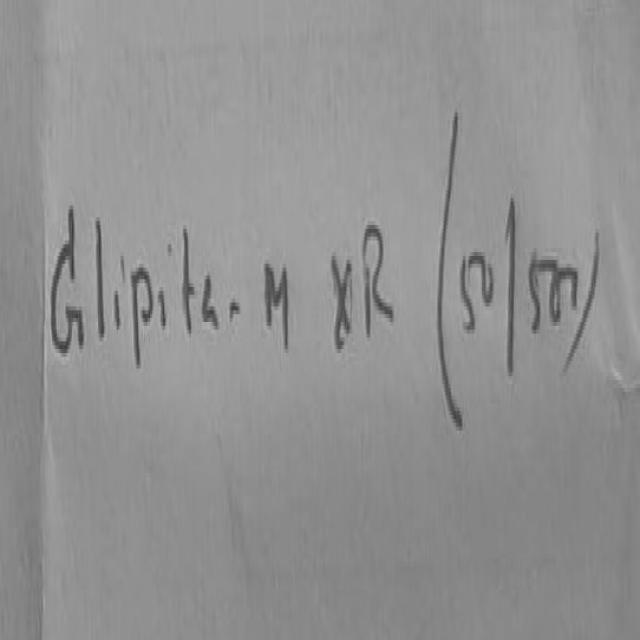0: (550, 273, 564, 322), (480, 264, 495, 304), (572, 273, 580, 306)
5: (530, 256, 556, 332), (462, 246, 484, 328)
G: (50, 206, 84, 351)
M: (265, 264, 288, 347)
R: (363, 221, 394, 336)
X: (332, 256, 352, 347)
a: (202, 275, 217, 328)
i: (115, 291, 119, 328), (161, 287, 165, 324)
l: (96, 217, 104, 337)
p: (131, 264, 154, 367)
t: (176, 229, 200, 342)
